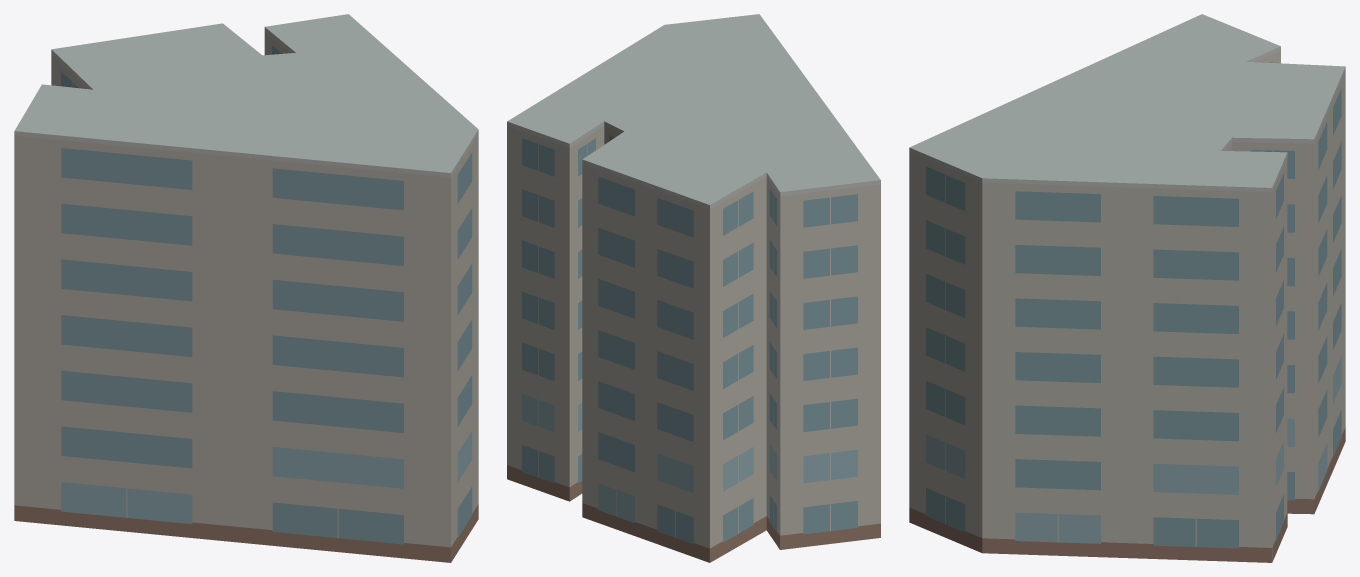
Rendered from survey-upis-32872265.glb.
3 renders of one model, left to right at view 1: azimuth 30°, elevation 25°; view 2: azimuth 150°, elevation 25°; view 3: azimuth 270°, elevation 25°, orthographic. The views are drawn at different scales.
Visible parts, largest first — view 1: survey-upis-32872265.tmp; view 2: survey-upis-32872265.tmp; view 3: survey-upis-32872265.tmp.
Part boxes in pixels (<box>): survey-upis-32872265.tmp: <box>14,14,478,562</box>; survey-upis-32872265.tmp: <box>507,14,880,562</box>; survey-upis-32872265.tmp: <box>909,14,1345,562</box>.
Bounding box in the file's own units: 21.21 × 21.3 × 22.47.
